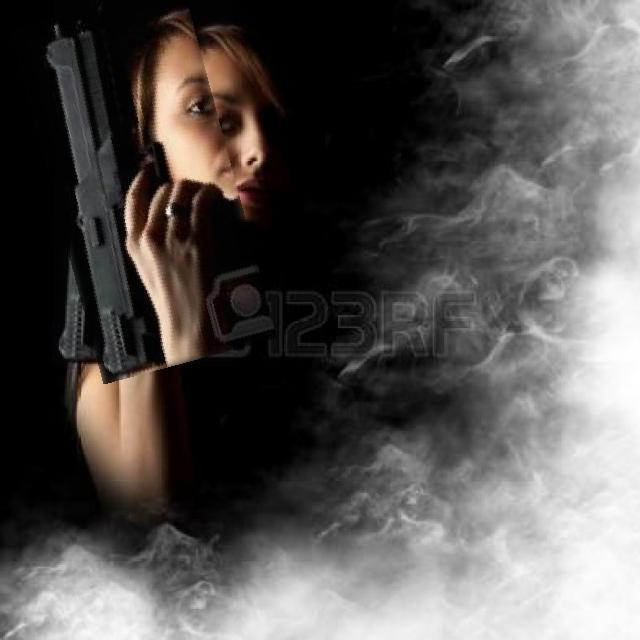handgun: (31, 0, 255, 375)
